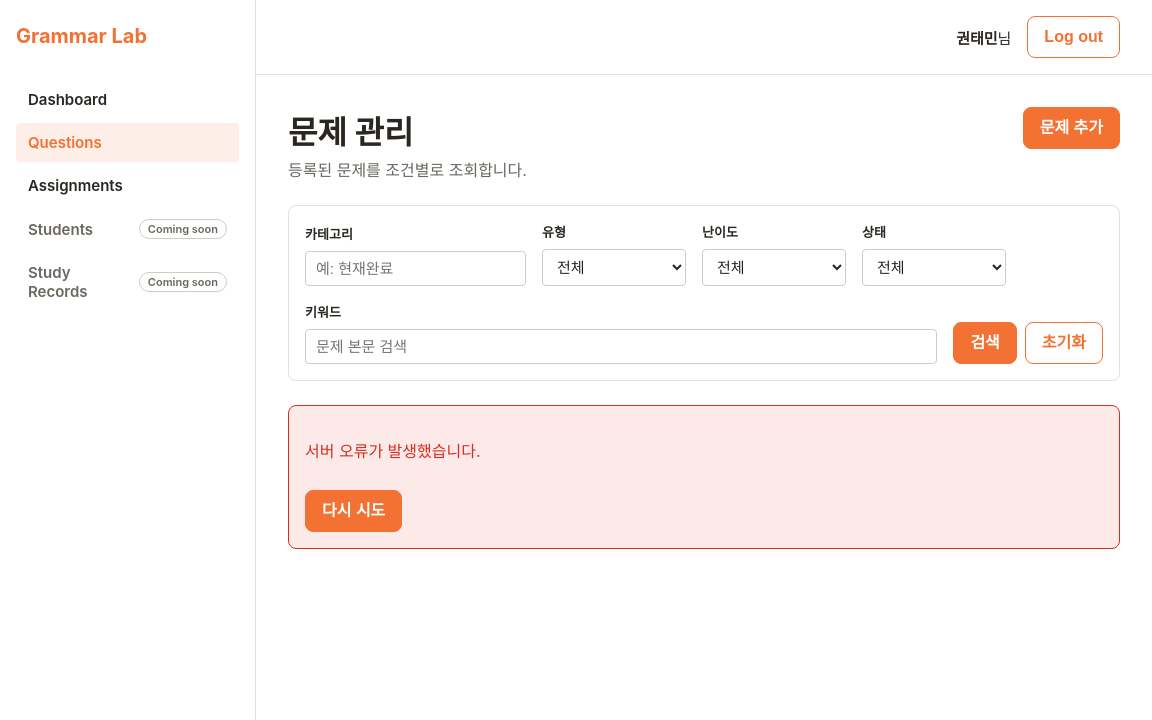
Test: QuestionListPage › shows a recoverable error and retries the same request on click
Check: the message shows "서버 오류가 발생했습니다.", box 305,441 -> 480,461
Click the button "다시 시도": (354, 511) 305,490 -> 402,532
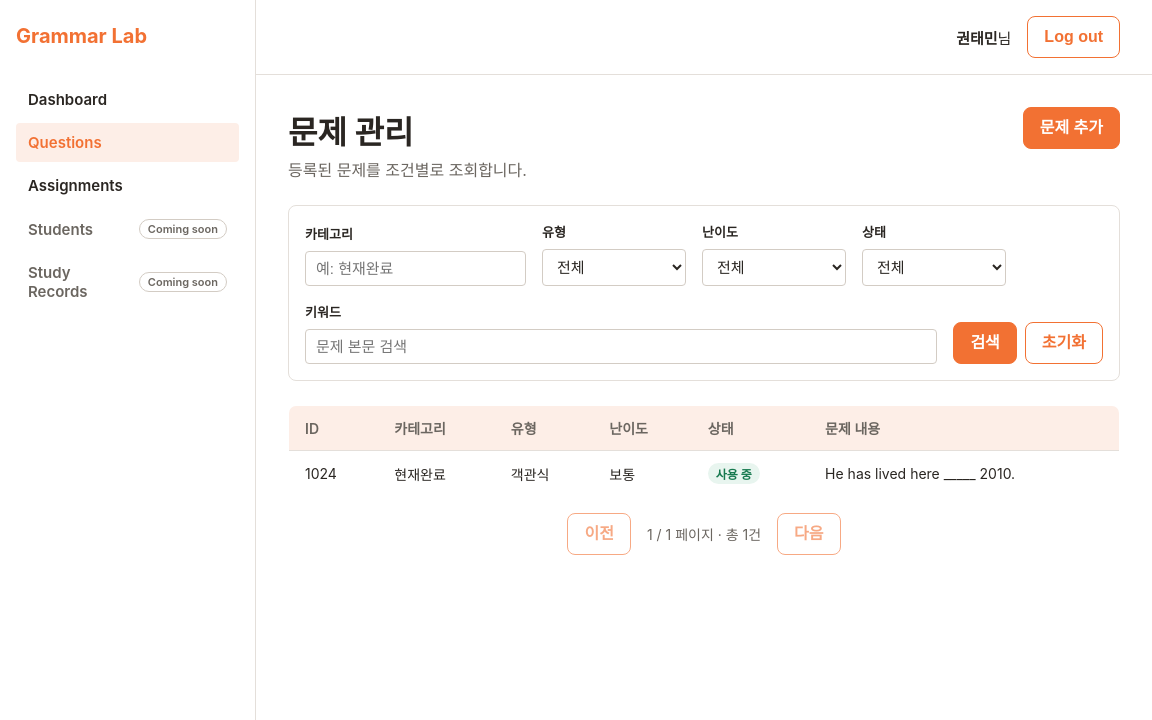
Check: the link "He has lived here _____ 2010." is shown, box 825,465 -> 1015,482
